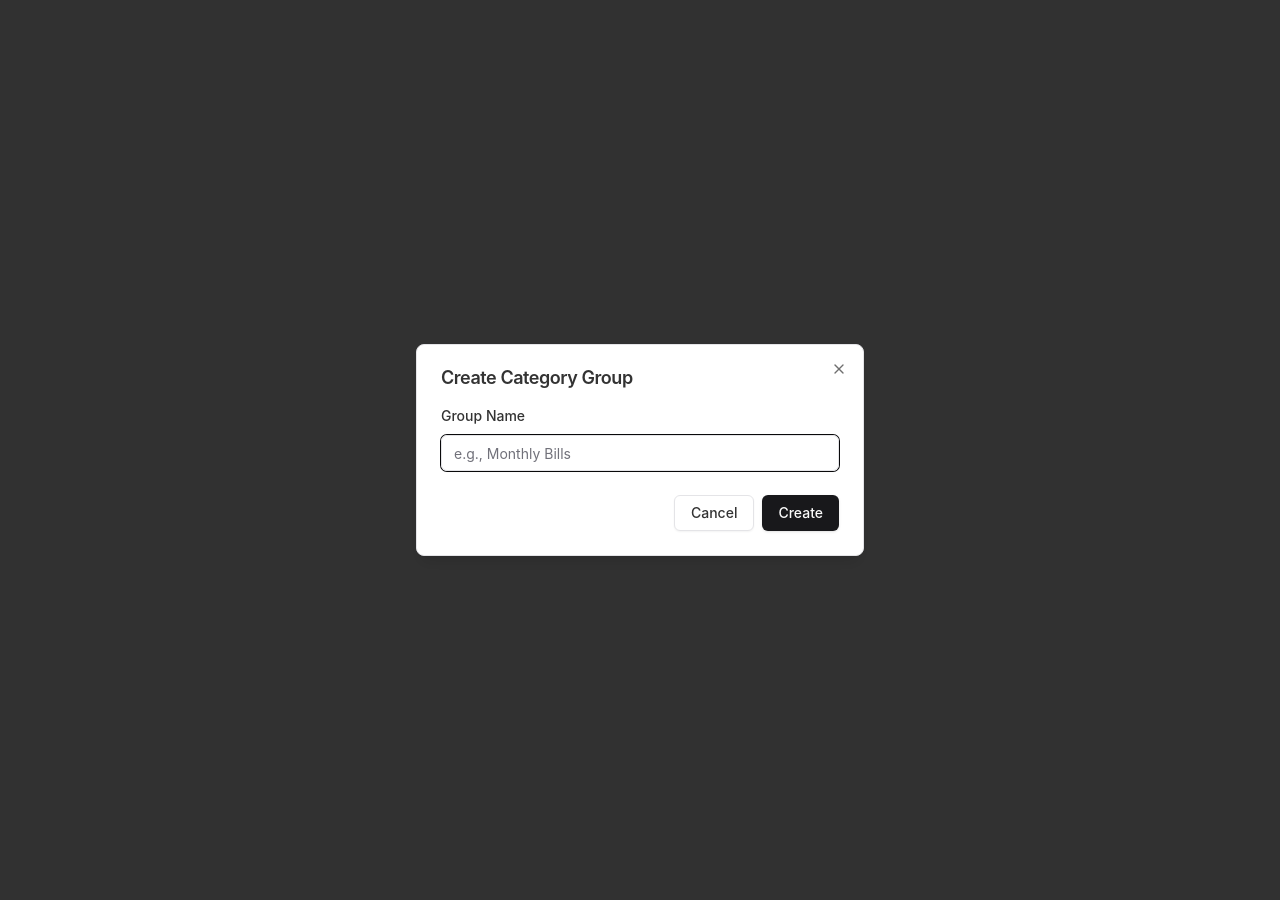
Test: CategoryGroupModal › Create mode › should display error message when createGroup fails
In the field labelled "Group Name": point(640, 453) [441,435,839,471], type "Test Group"
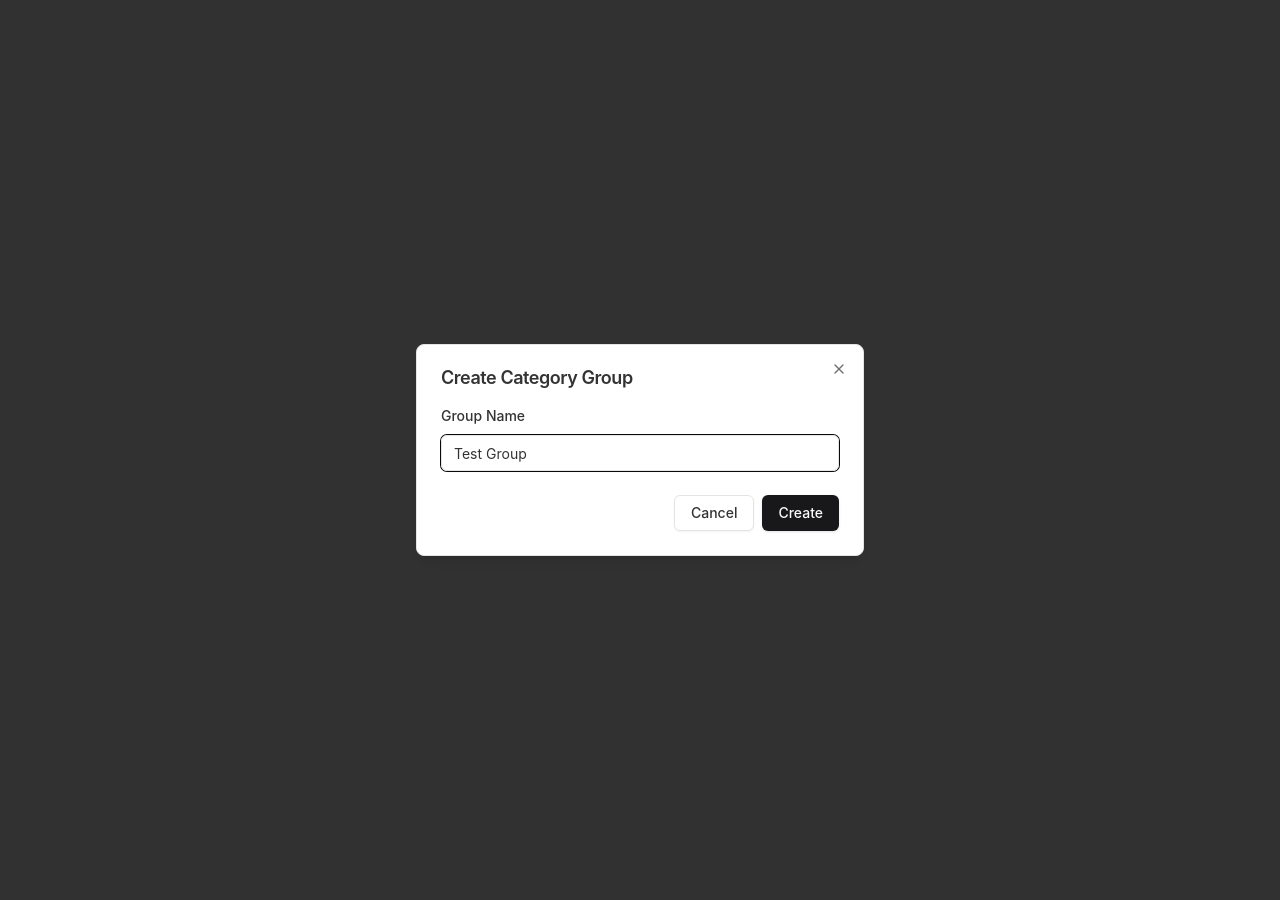
Click the button "Create": point(801, 513) [762,495,839,531]
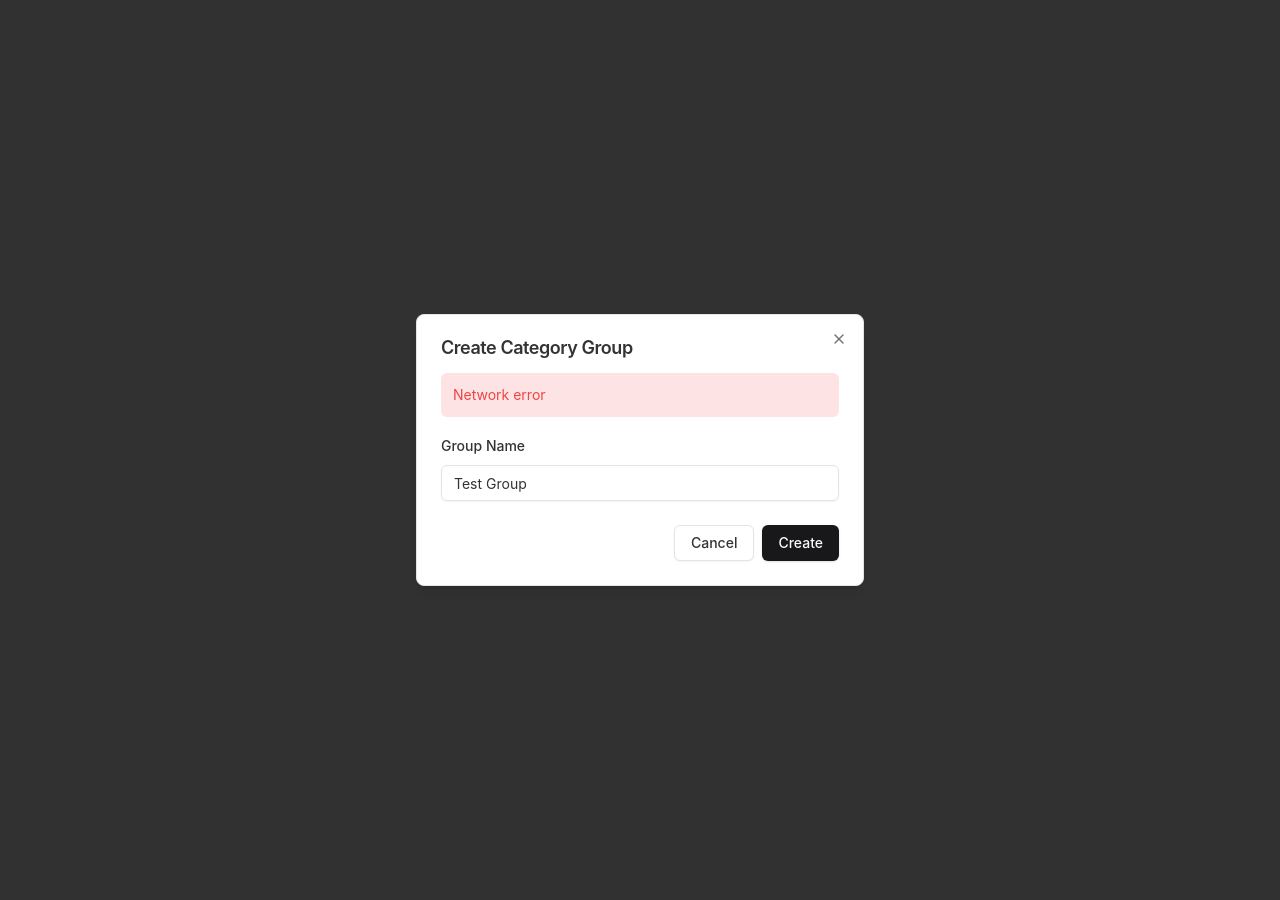
Now the text "Network error" is shown, box [441,373,839,417]
